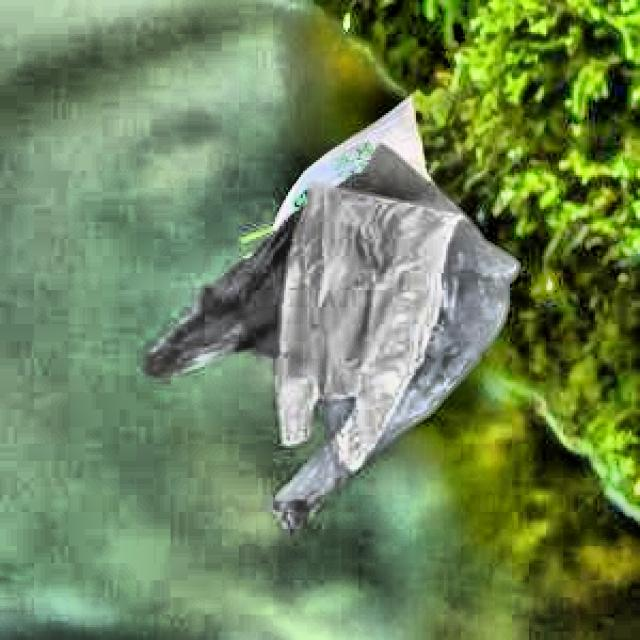Plastic: (151, 152, 517, 539), (266, 170, 441, 460)
